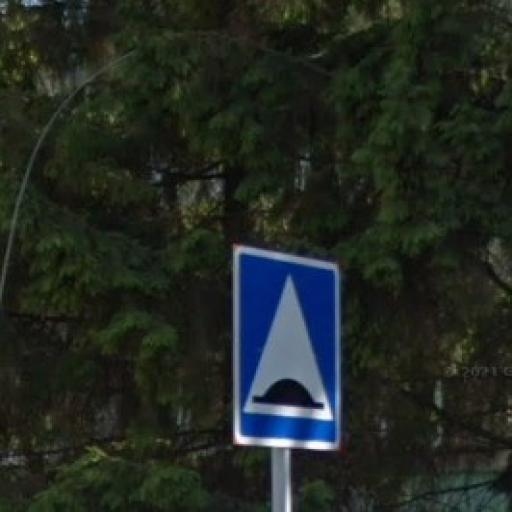traffic_sign: (234, 246, 345, 454)
